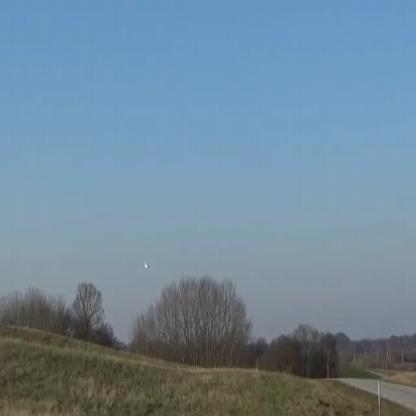CIV_Plane: (141, 258, 150, 276)
